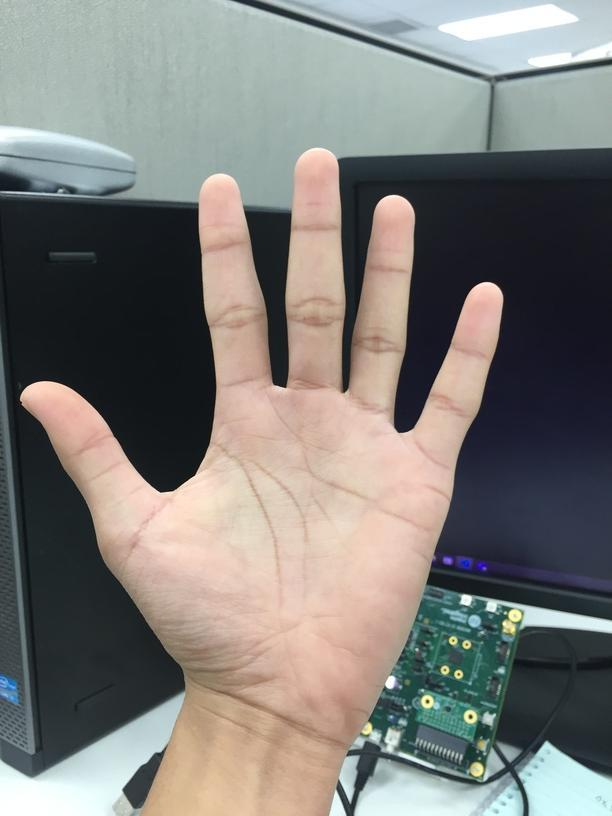hand: (19, 149, 506, 743)
